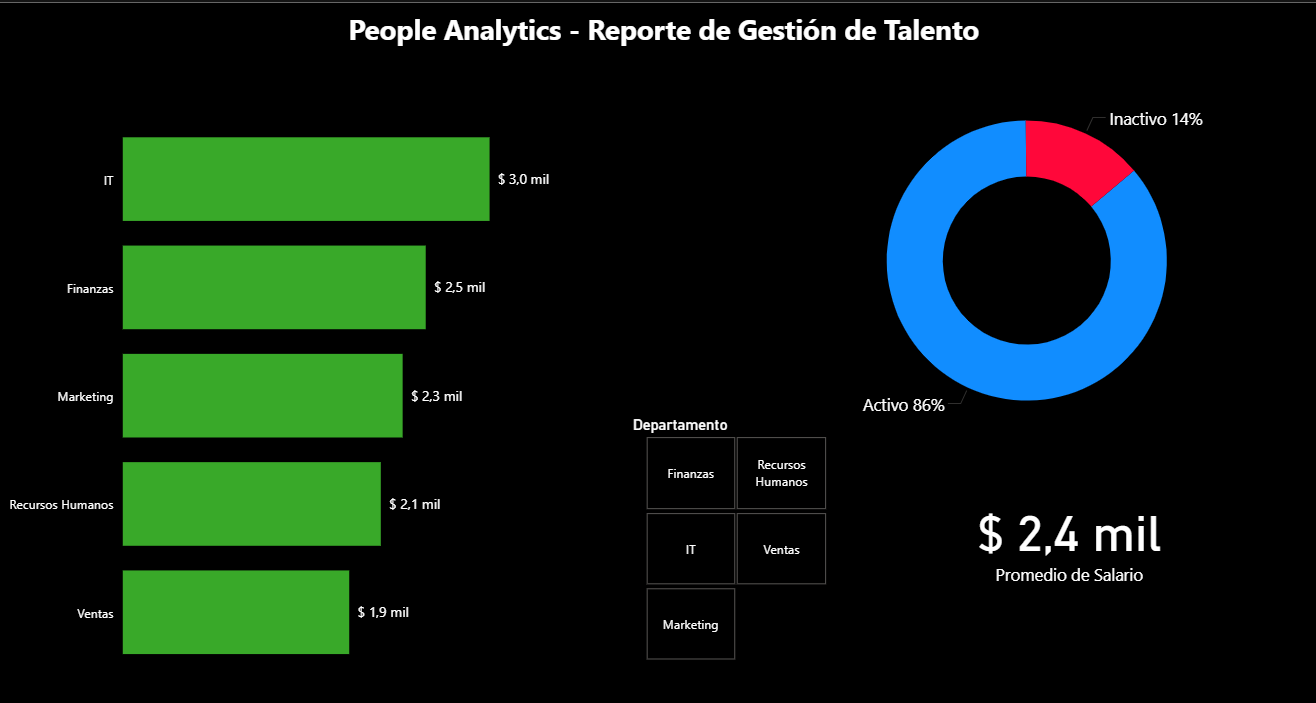

What the dashboard file says about the page in this screenshot:
{"tool":"powerbi","page":{"name":"Página 1","canvas":[1280,720],"ordinal":0},"visuals":[{"type":"card","fields":{"Values":["Avg(Tbl_Personal.Salario)"]},"box":[936.9,461.2,203.4,194.9],"z":0},{"type":"clusteredBarChart","fields":{"Y":["Avg(Tbl_Personal.Salario)"],"Category":["Tbl_Personal.Departamento"]},"box":[0,115,545.9,605.2],"z":1000},{"type":"donutChart","fields":{"Category":["Tbl_Personal.Estado"],"Y":["CountNonNull(Tbl_Personal.ID_Emp)"]},"box":[715.4,101.7,564.1,375.3],"z":2000},{"type":"slicer","fields":{"Values":["Tbl_Personal.Departamento"]},"box":[602.8,434.6,223.9,248.2],"z":3000},{"type":"textbox","box":[328,42.4,634.3,59.3],"z":4000}]}

Visuals, with their boxes on the page's 1280x720 design canvas (x1, y1, x2, y2). These are canvas units, not pixel positions in the 1316x703 screenshot, which may show the page scaled, cropped or inside an application window:
card - Avg(Tbl_Personal.Salario): Rect(937, 461, 1140, 656)
clusteredBarChart - Avg(Tbl_Personal.Salario) x Tbl_Personal.Departamento: Rect(0, 115, 546, 720)
donutChart - Tbl_Personal.Estado x CountNonNull(Tbl_Personal.ID_Emp): Rect(715, 102, 1280, 477)
slicer - Tbl_Personal.Departamento: Rect(603, 435, 827, 683)
textbox: Rect(328, 42, 962, 102)
